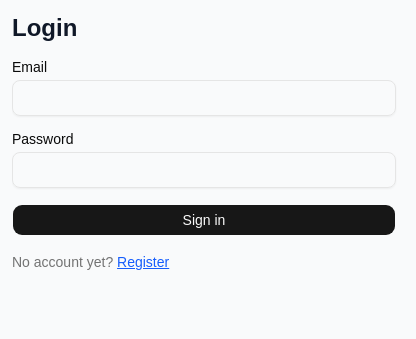
Test: LoginPage validation › shows both schema messages when the login form is submitted empty
The image size is (416, 339).
Click the button "Sign in".
click(204, 220)  # box [12,204,396,236]
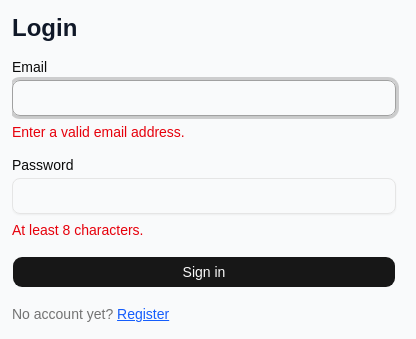
Expected: the text "Enter a valid email address." is shown, [12,124,185,140]
Expected: the text "At least 8 characters." is shown, [12,222,144,238]
